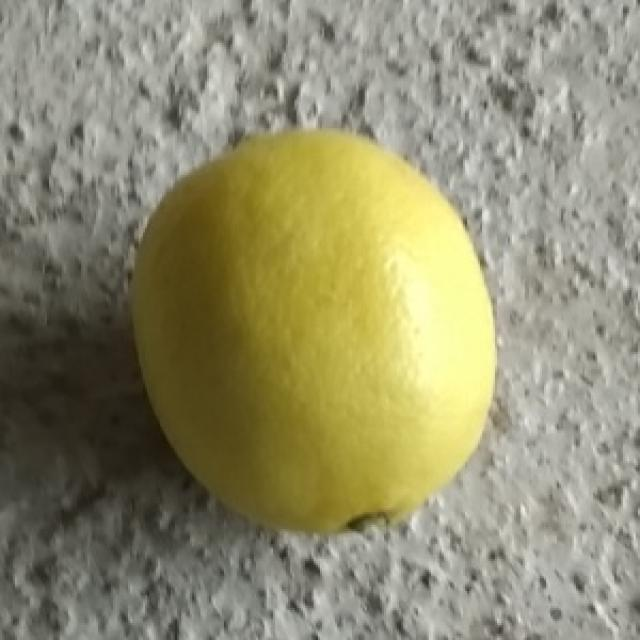Lemon: (126, 128, 500, 533)
